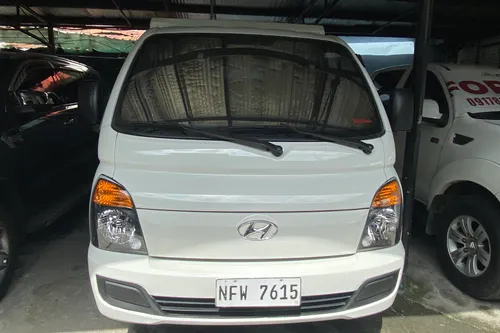car: (83, 15, 408, 331)
